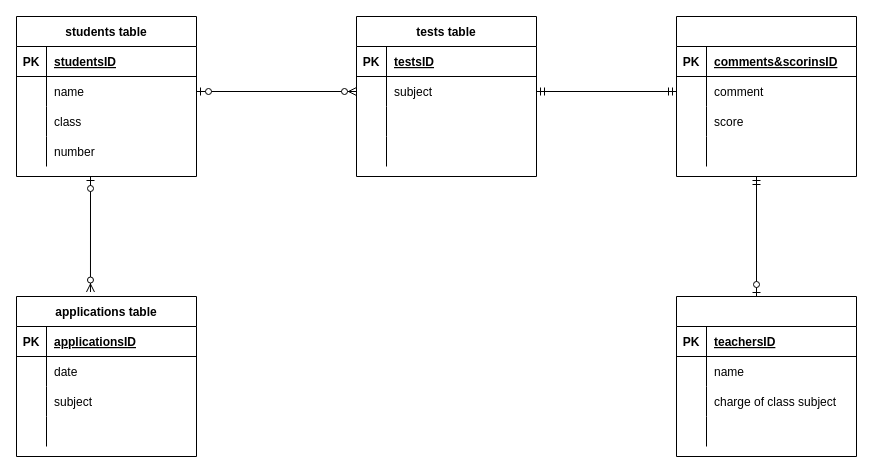
Image size: 873x473. Some labels were removed from this diagram. The shapes that lost their labels are listed below. From the top down, each one's box as (x1, y1, x2, y2) in pixels, then its label:
(676, 16, 856, 176): comments&scorings table
(676, 296, 856, 456): teachers table
